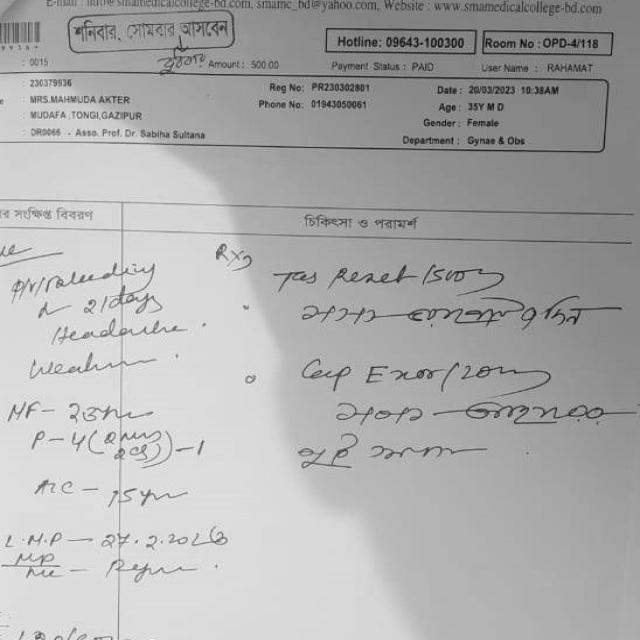medicine: (324, 258, 421, 294), (362, 358, 448, 392)
